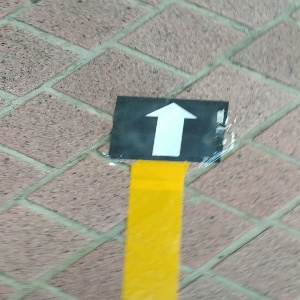straight: (108, 96, 228, 166)
